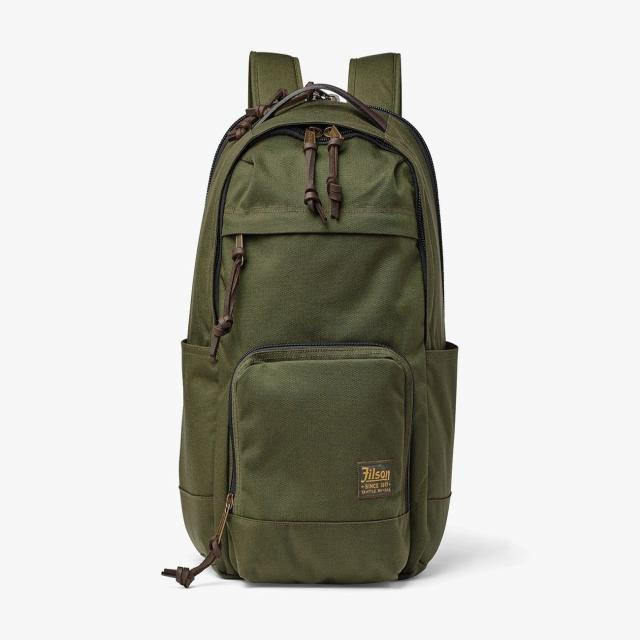Backpacks: (178, 45, 452, 585)
